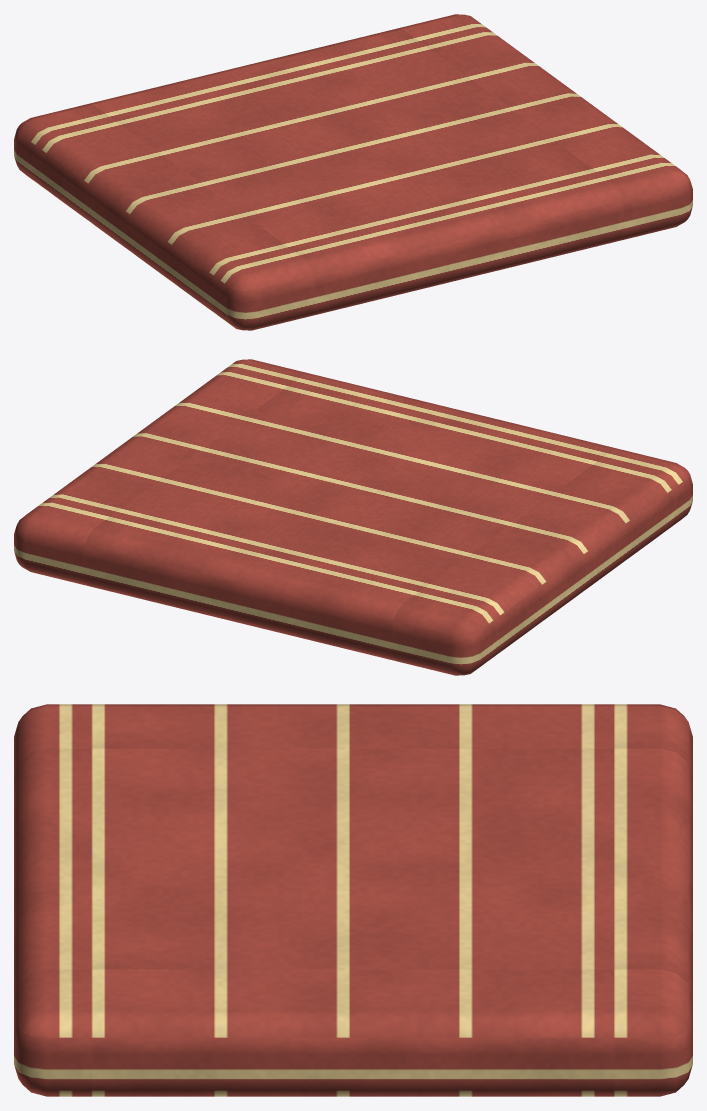
The model's file is escena.casa.frazada.fbx.
3 renders of one model, top to bottom at view 1: azimuth 30°, elevation 25°; view 2: azimuth 150°, elevation 25°; view 3: azimuth 270°, elevation 25°, orthographic. The views are drawn at different scales.
Visible parts, largest first — view 1: Frazada; view 2: Frazada; view 3: Frazada.
Boxes of the visible parts, x1,y1,x2,y2 form: Frazada: (14,14,692,330); Frazada: (14,359,692,675); Frazada: (14,704,692,1096).
Bounding box in the file's own units: 0.6 × 0.07 × 0.52.
1 material, 1 textured.
